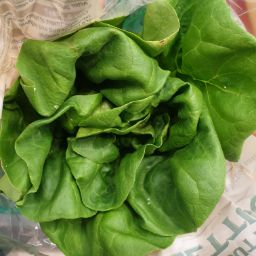Spinach: (8, 5, 253, 256), (44, 41, 195, 203)
